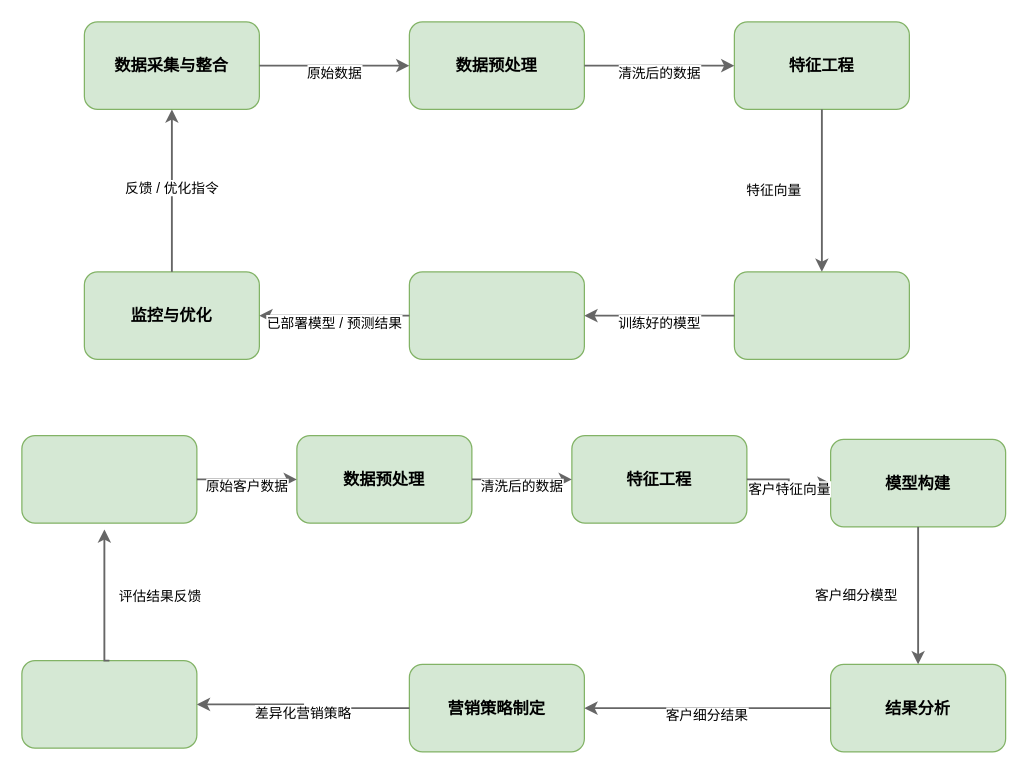
Image size: 1028x774. Some labels were removed from this diagram. The centre of each missing label's shape, as x and y in pixels:
效果评估: the point at 109,703
数据收集: the point at 109,478
模型评估与部署: the point at 496,315
模型选择与训练: the point at 821,315
